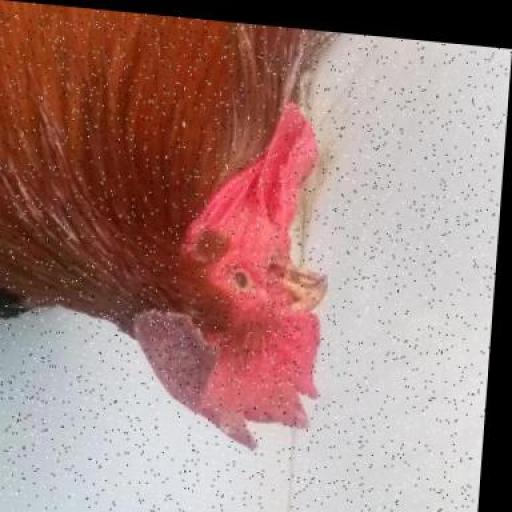disease: (134, 297, 324, 444)
